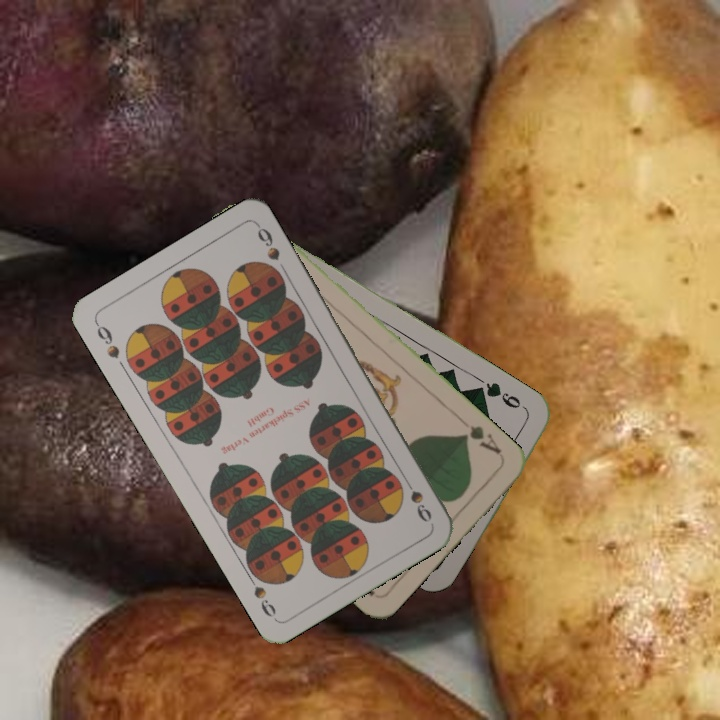G9: (475, 378, 530, 415)
GA: (457, 421, 504, 457)
S9: (398, 471, 435, 525), (91, 318, 123, 361)
